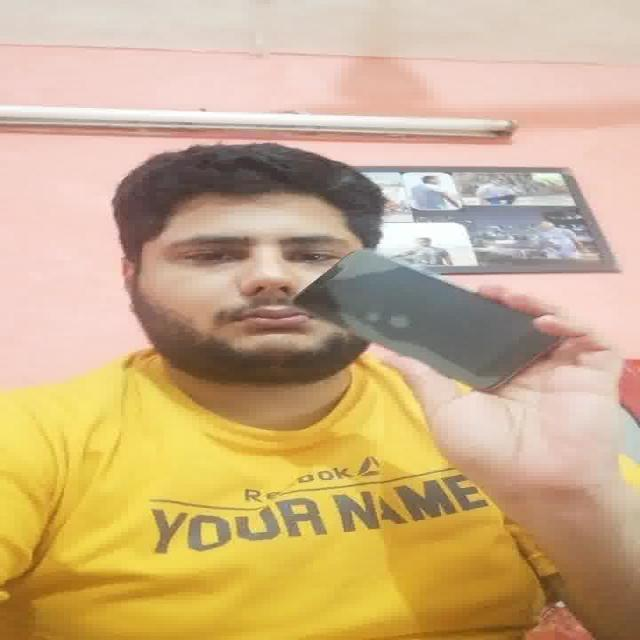Phone: (287, 248, 566, 397)
